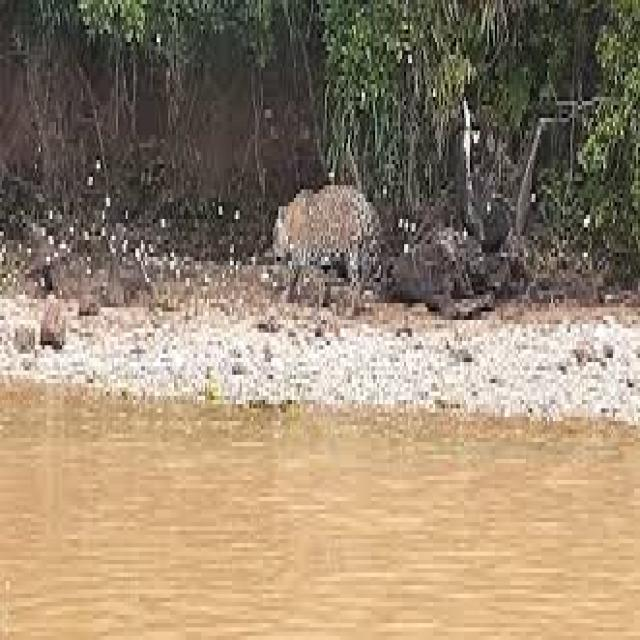Jaguar: (273, 198, 387, 307)
